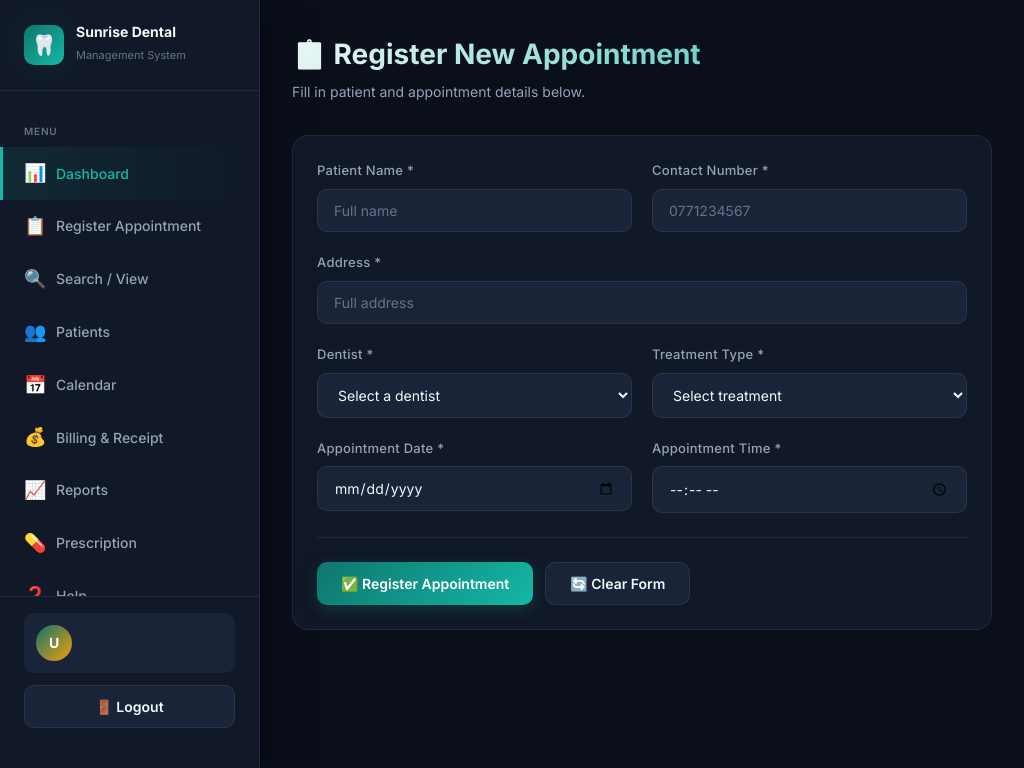
Scenario: RegisterPage Component › should validate required fields
This screenshot has width=1024, height=768.
What coordinates should you click on to do the following:
click the button "✅ Register Appointment"
I would click on:
 (425, 584)
Its box is [317, 562, 533, 605].
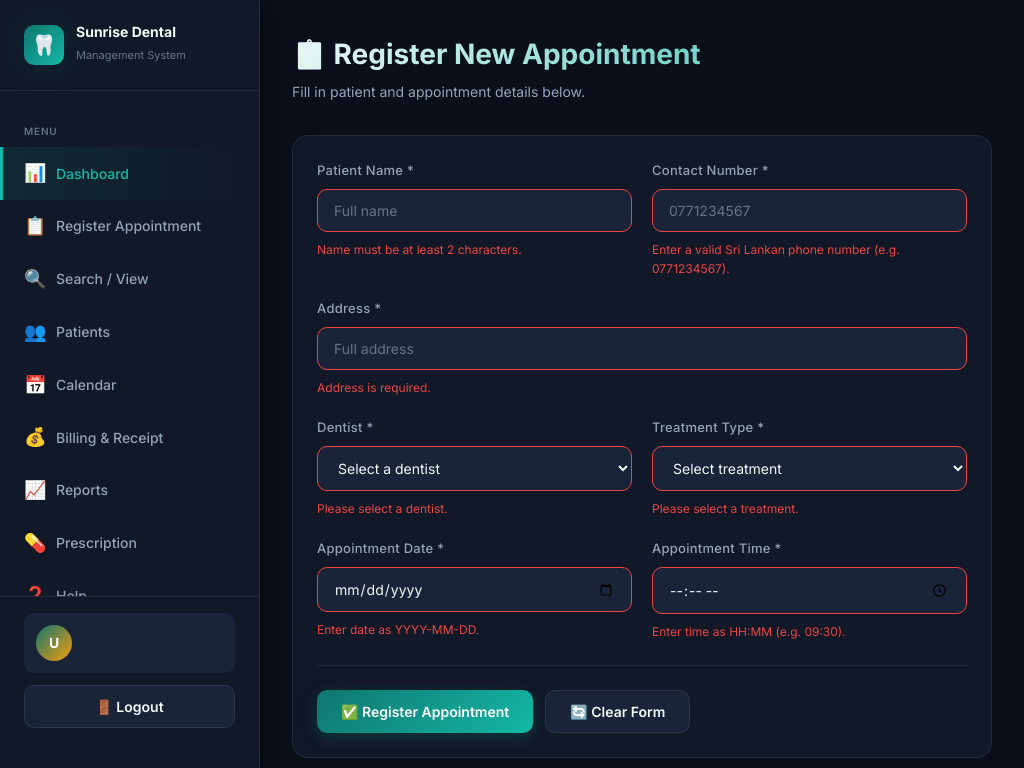
Expected: the text "Name must be at least 2 characters." is shown, [317, 242, 522, 257]
Expected: the text "Address is required." is shown, [317, 380, 431, 395]
Expected: the text "Enter a valid Sri Lankan phone number (e.g. 0771234567)." is shown, [652, 242, 900, 276]
